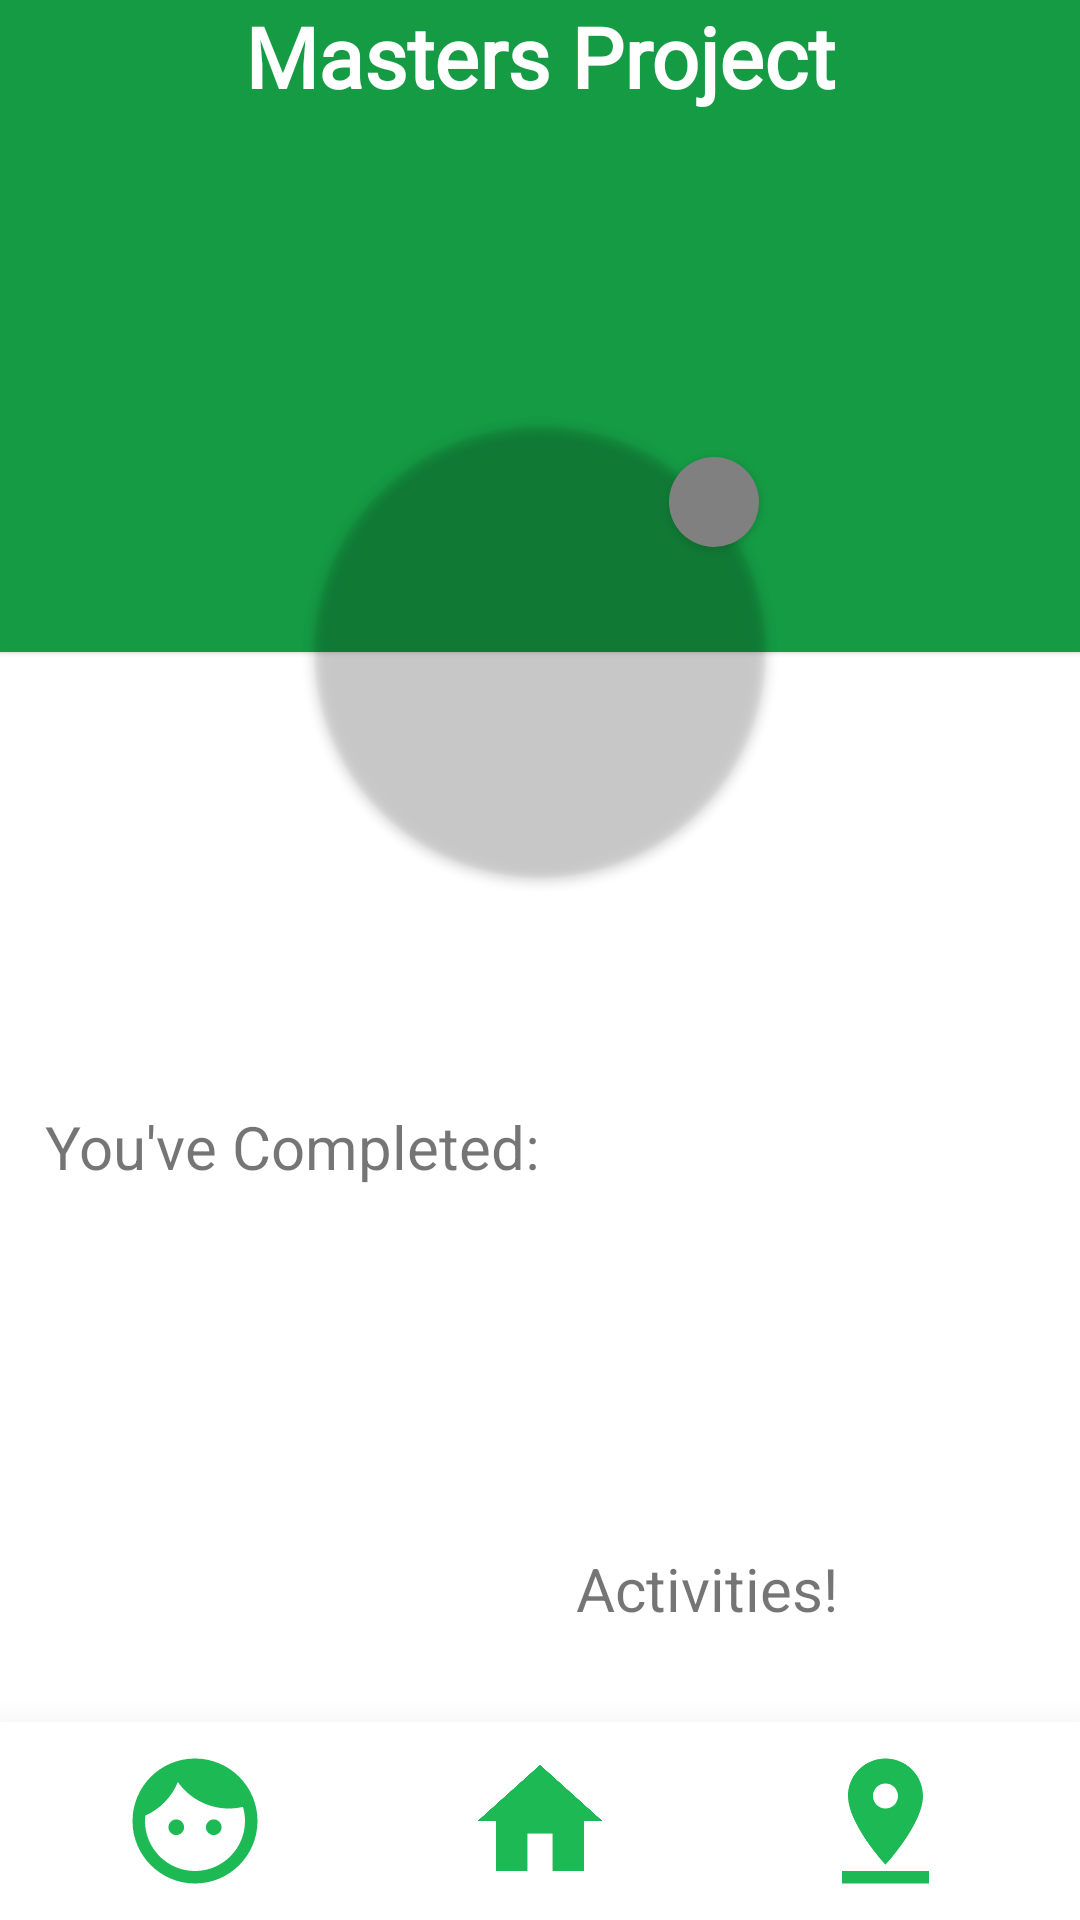

Icon bounding boxes for this 1080 x 1920 phone screenshot, format (x1, y1, x2, y2):
face: (132, 1758, 258, 1884)
home: (478, 1765, 602, 1871)
pin drop: (842, 1758, 929, 1884)
